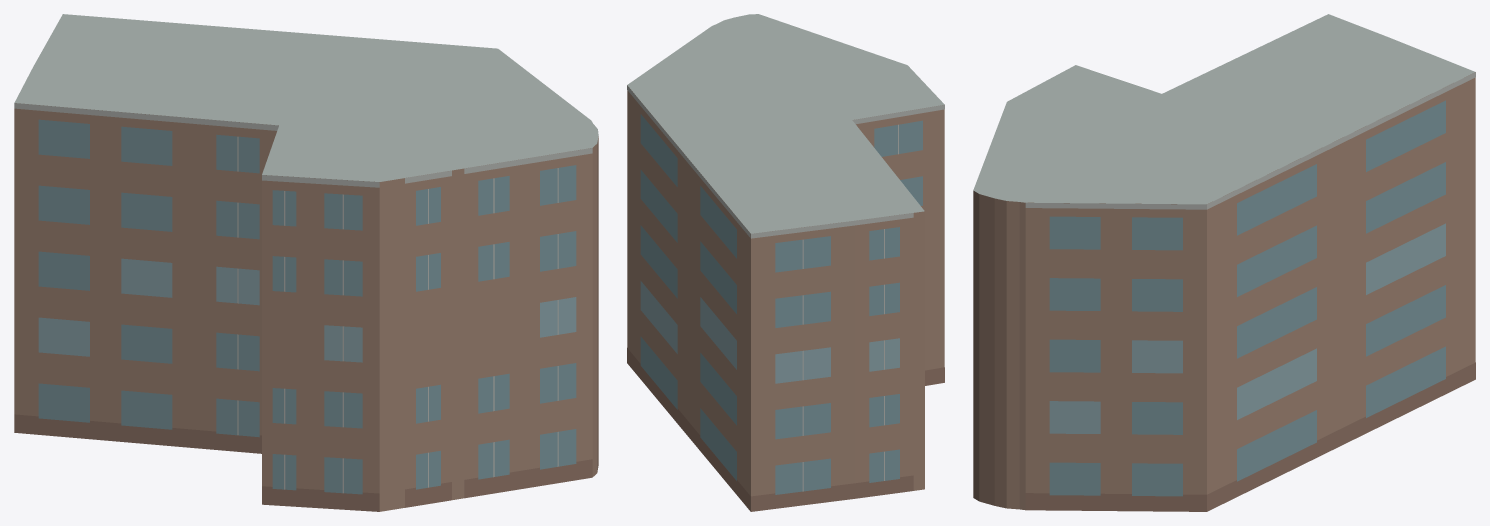
The model's file is survey-upis-32715068.glb.
3 renders of one model, left to right at view 1: azimuth 30°, elevation 25°; view 2: azimuth 150°, elevation 25°; view 3: azimuth 270°, elevation 25°, orthographic. The views are drawn at different scales.
Visible parts, largest first — view 1: survey-upis-32715068.tmp; view 2: survey-upis-32715068.tmp; view 3: survey-upis-32715068.tmp.
Part boxes in pixels (left/top/right/bottom): survey-upis-32715068.tmp: left=14, top=14, right=598, bottom=511; survey-upis-32715068.tmp: left=627, top=14, right=944, bottom=511; survey-upis-32715068.tmp: left=973, top=14, right=1475, bottom=511.
Bounding box in the file's own units: 18.87 × 14.2 × 21.04.
